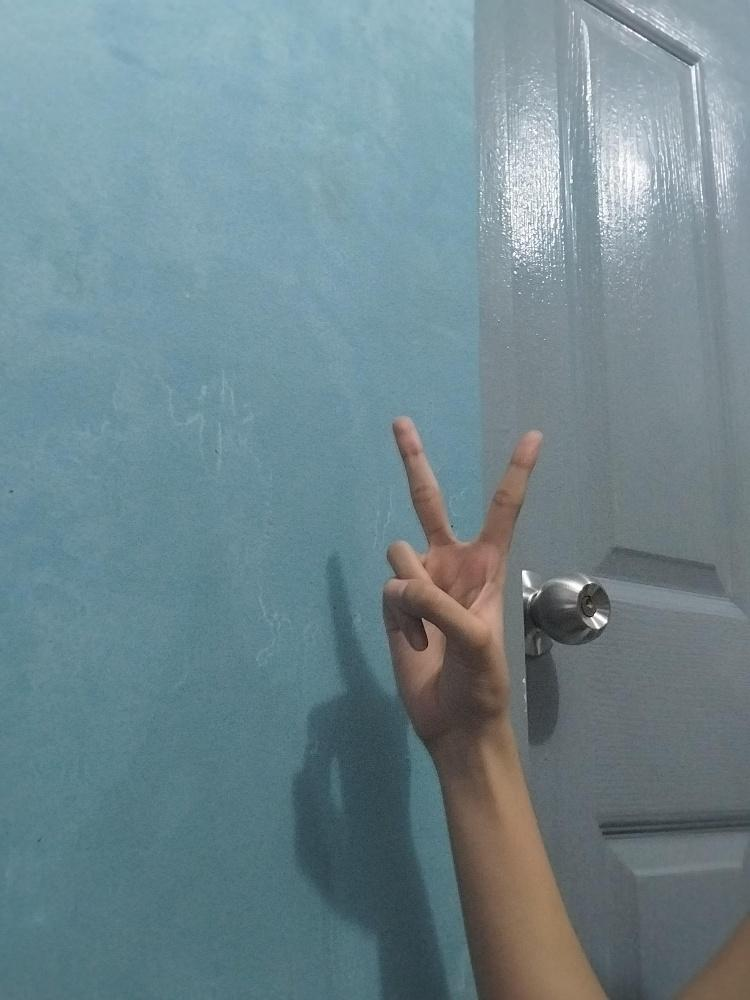v: (380, 414, 538, 720)
